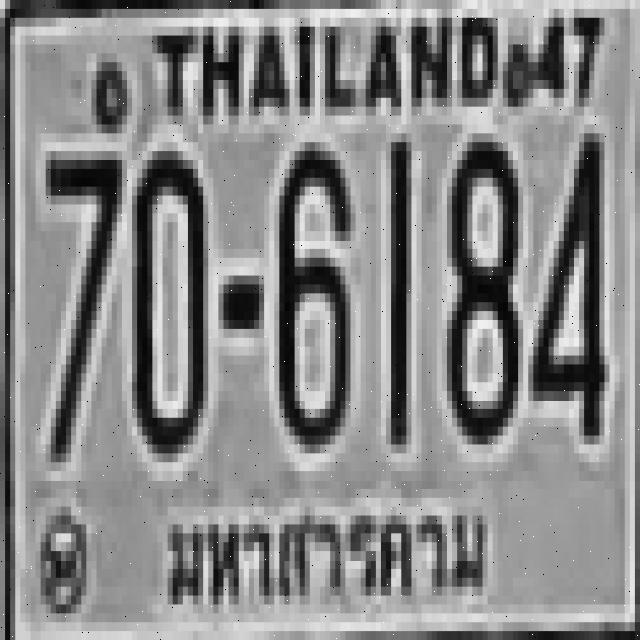0: (132, 143, 203, 444)
1: (381, 133, 406, 444), (386, 133, 406, 444)
4: (526, 124, 602, 436)
6: (274, 143, 346, 444)
7: (44, 151, 120, 453)
8: (444, 134, 516, 436)
MahaSarakham: (158, 498, 498, 618)
